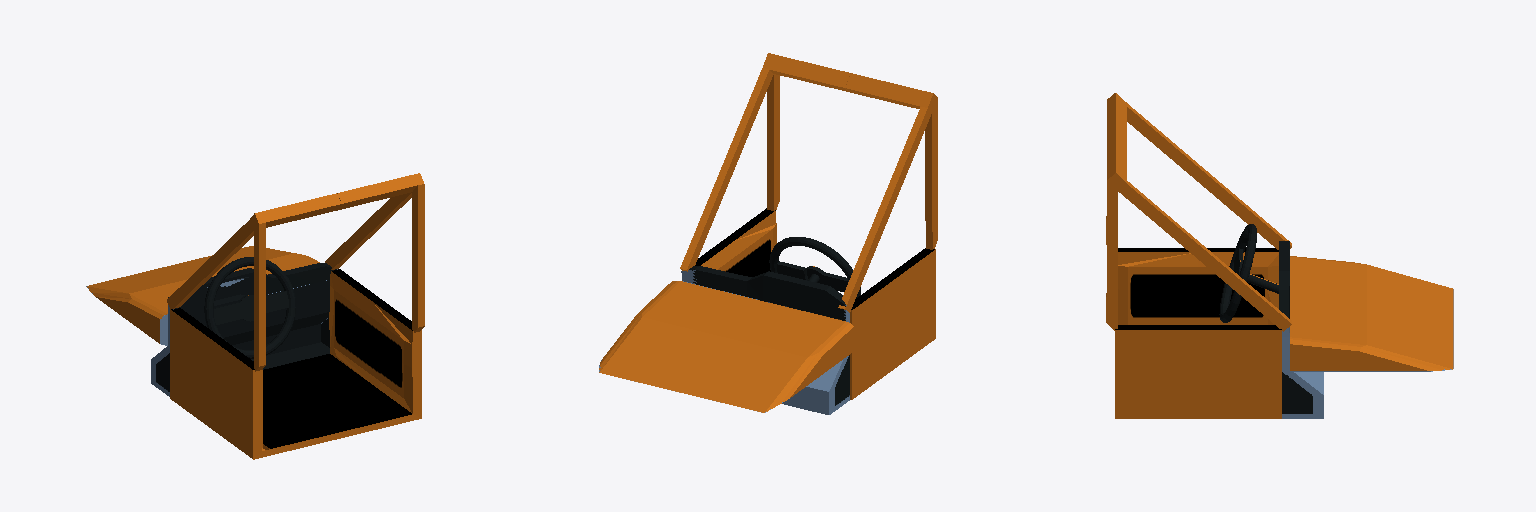
3 views of the same model, side by side, from view 1: azimuth 30°, elevation 25°; view 2: azimuth 150°, elevation 25°; view 3: azimuth 270°, elevation 25° (orthographic).
Visible parts, largest first — view 1: Dash; view 2: Dash; view 3: Dash.
Part boxes in pixels (bbox=[...]): Dash: bbox=[86, 173, 424, 459]; Dash: bbox=[599, 53, 937, 414]; Dash: bbox=[1106, 93, 1453, 418].
Size of the model in its own units: 3.73 by 4.82 by 6.15.
1 materials, 1 textured.